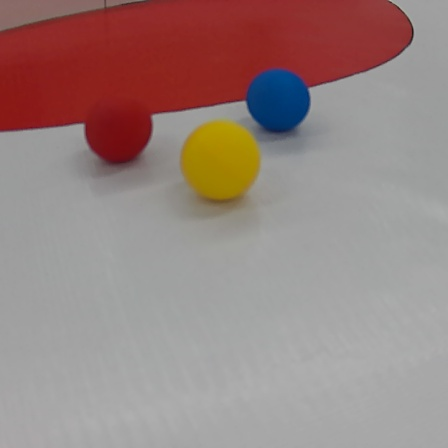blue: (237, 67, 318, 131)
red: (78, 93, 156, 162)
red_base: (0, 0, 412, 129)
yellow: (183, 116, 261, 206)
